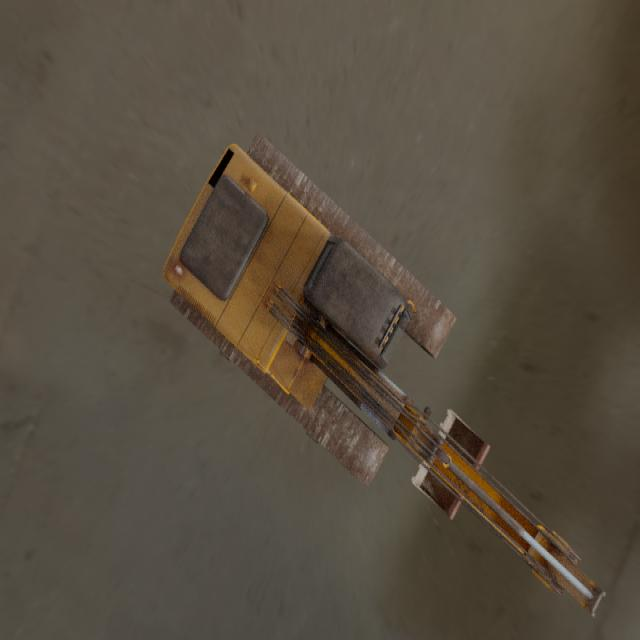excavator: (163, 132, 606, 616)
